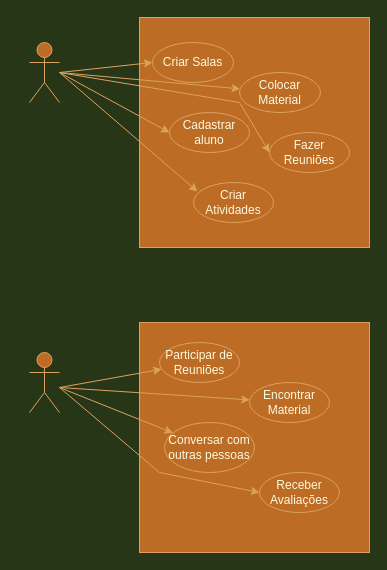
The diagram is 387 pixels wide and 570 high, and some of its shapes have lost their labels. The shapes that lost their labels are listed below. From the top down, each one's centre as x and y in pixels, then its label:
At (x=44, y=72): "Professor".
At (x=44, y=382): "Aluno".
